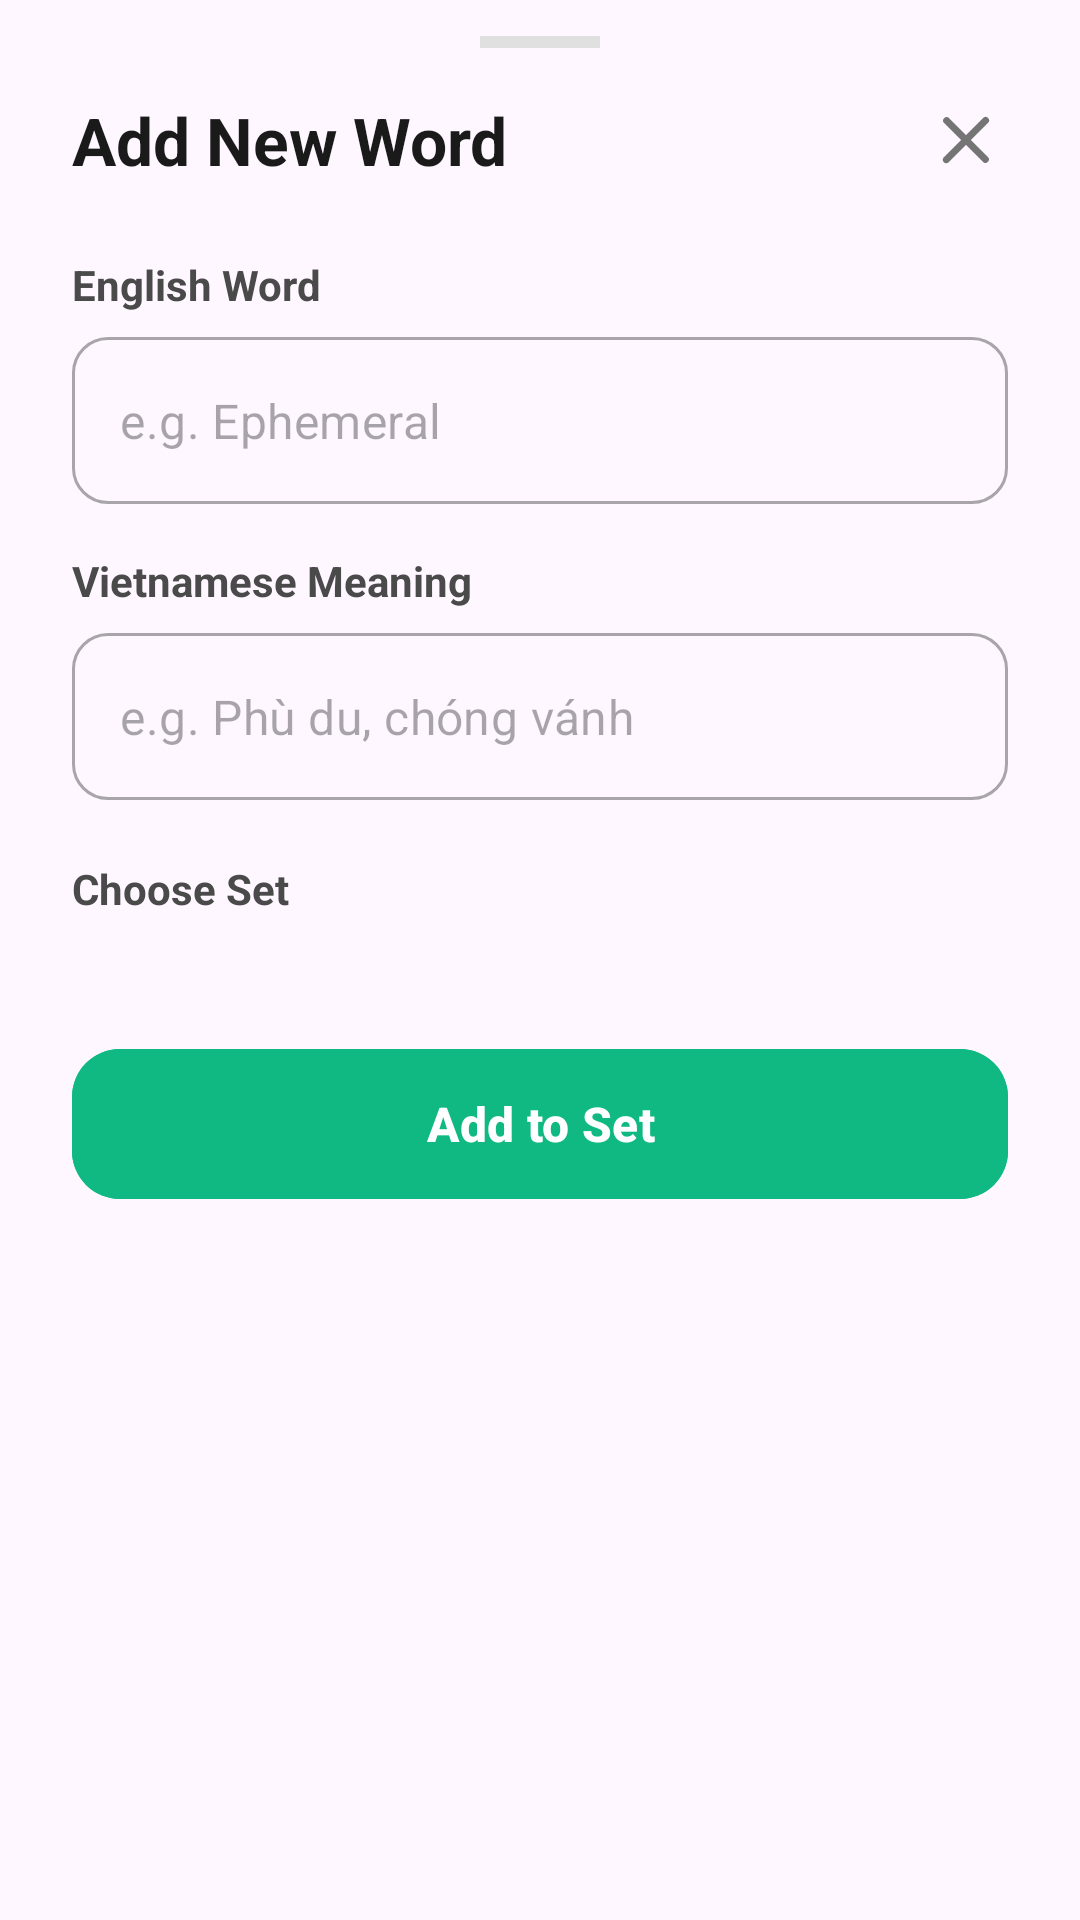

Where to tap for icons on this 1080*1920 app screen, as point (x, y):
close: point (966, 140)
